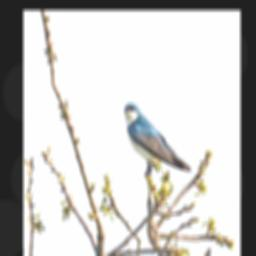Swallow: (117, 76, 194, 199)
